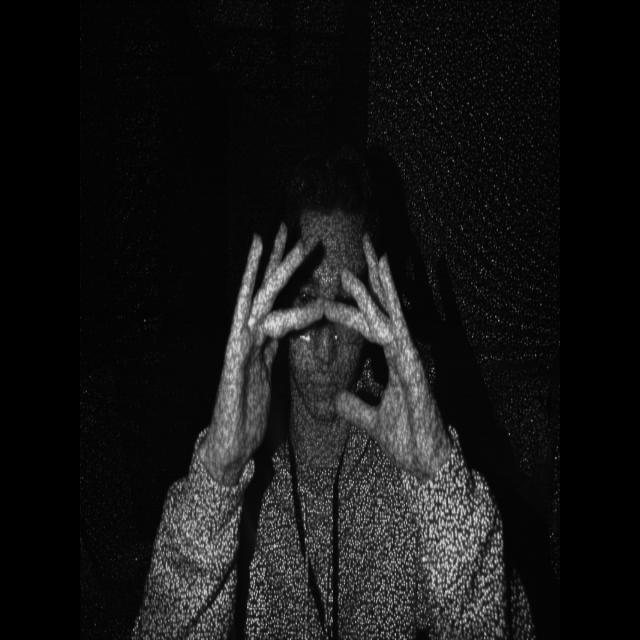REACH: (209, 194, 444, 468)
